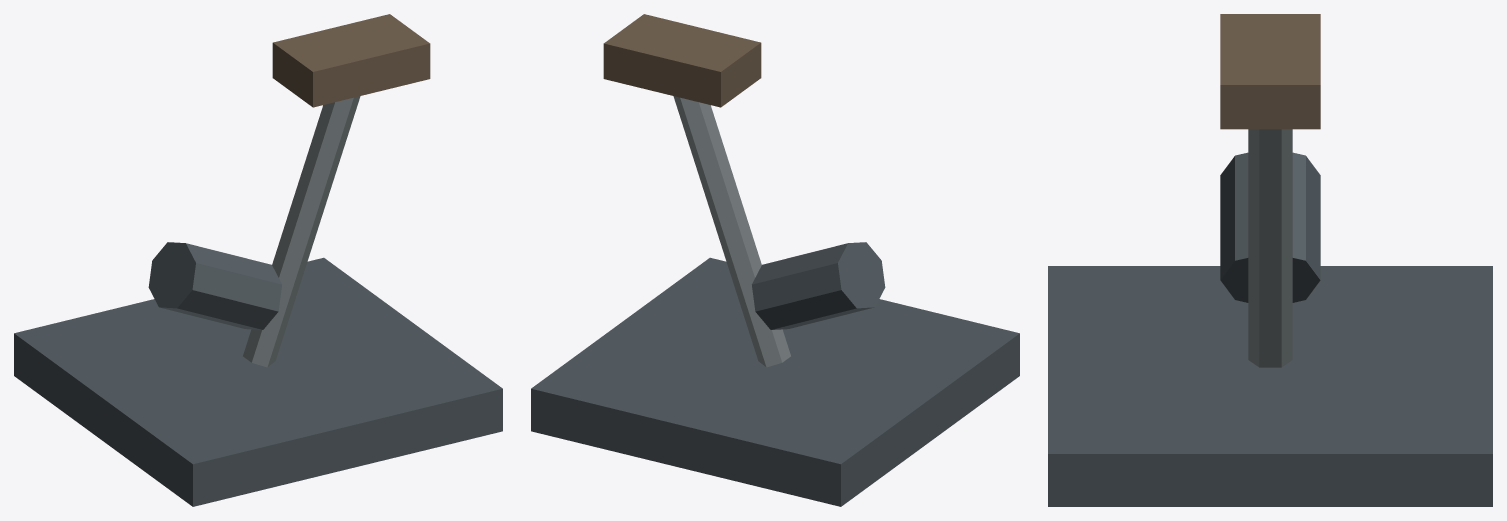
File: switch_lever.glb
3 renders of one model, left to right at view 1: azimuth 30°, elevation 25°; view 2: azimuth 150°, elevation 25°; view 3: azimuth 270°, elevation 25°, orthographic. The views are drawn at different scales.
Parts seen in each view (by area): view 1: switch_lever; view 2: switch_lever; view 3: switch_lever.
Part boxes in pixels (x1,y1,x2,y2): switch_lever: (14, 14, 502, 506); switch_lever: (531, 14, 1019, 506); switch_lever: (1048, 14, 1492, 506).
Bounding box in the file's own units: 0.96 × 1 × 0.96.
